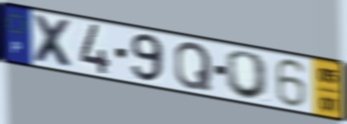4: (79, 22, 112, 76)
6: (274, 57, 308, 109)
9: (130, 32, 166, 84)
O: (224, 49, 271, 102)
Q: (173, 41, 214, 92)
X: (31, 12, 77, 72)
